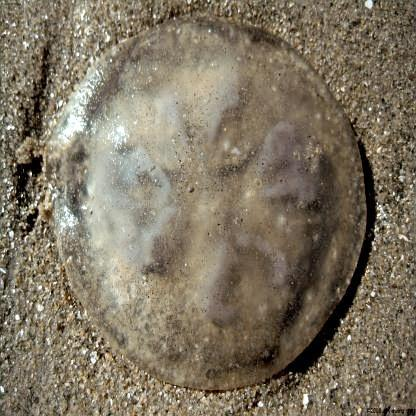Speckle: (50, 17, 372, 393)
